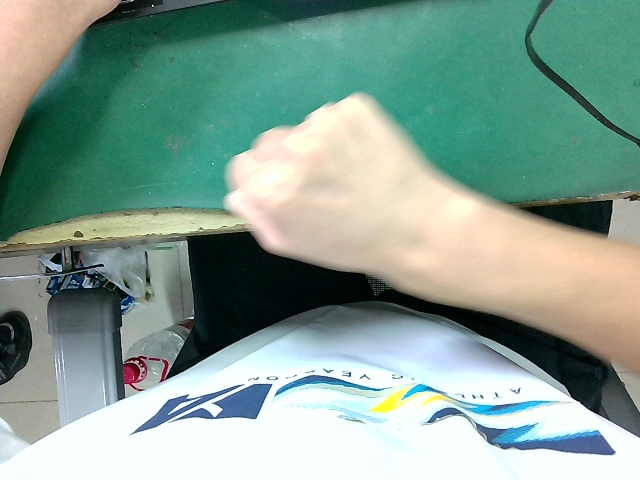stone: (221, 86, 427, 284)
